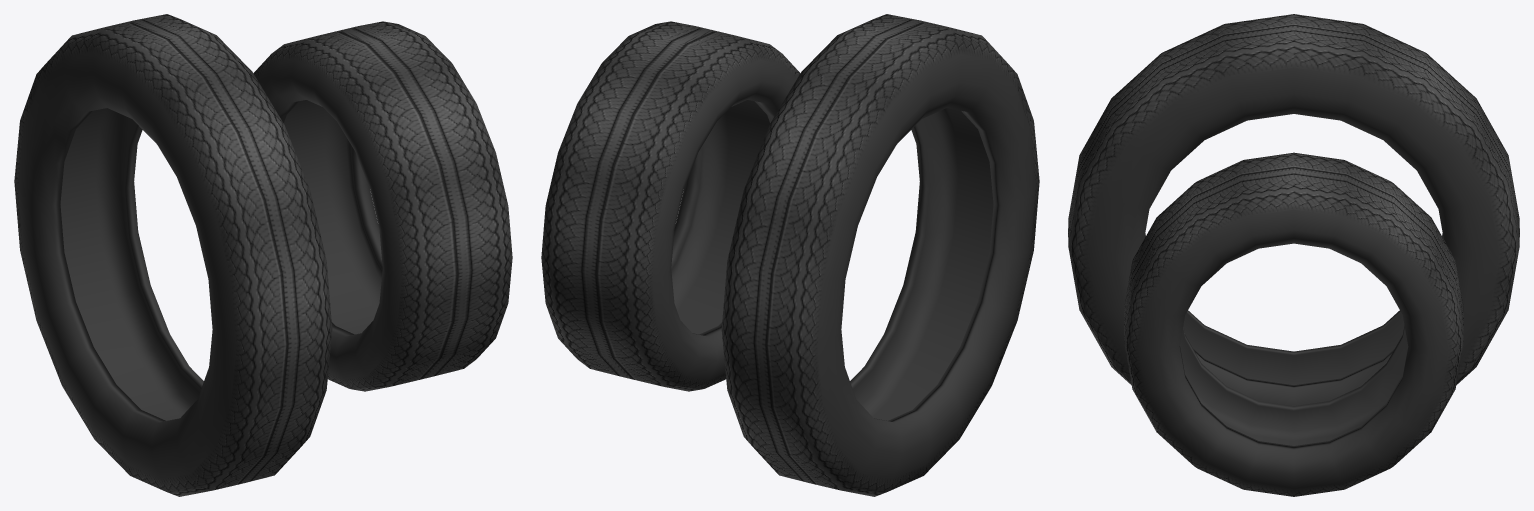
File: tyre 01.fbx
The picture shows the model from 3 angles, left to right: view 1: azimuth 30°, elevation 25°; view 2: azimuth 150°, elevation 25°; view 3: azimuth 270°, elevation 25°; orthographic projection. The views are drawn at different scales.
Visible parts, largest first — view 1: pTorus1, pTorus2; view 2: pTorus1, pTorus2; view 3: pTorus1, pTorus2.
Part boxes in pixels (x1=…): pTorus1: x1=14, y1=14, x2=332, y2=496; pTorus2: x1=253, y1=21, x2=512, y2=391; pTorus1: x1=721, y1=14, x2=1039, y2=496; pTorus2: x1=541, y1=21, x2=800, y2=391; pTorus1: x1=1068, y1=14, x2=1519, y2=405; pTorus2: x1=1124, y1=152, x2=1463, y2=496.
Size of the model in its own units: 1.28 by 1.71 by 1.71.
